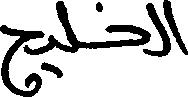X: (0, 20, 44, 96), (108, 0, 149, 59), (56, 0, 76, 82), (168, 0, 187, 59), (151, 0, 166, 61), (46, 30, 54, 78)
